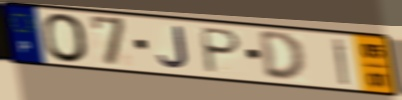7: (87, 14, 129, 69)
D: (257, 30, 309, 84)
I: (331, 36, 351, 87)
J: (155, 25, 191, 71)
O: (40, 12, 91, 65)
P: (200, 26, 244, 76)
